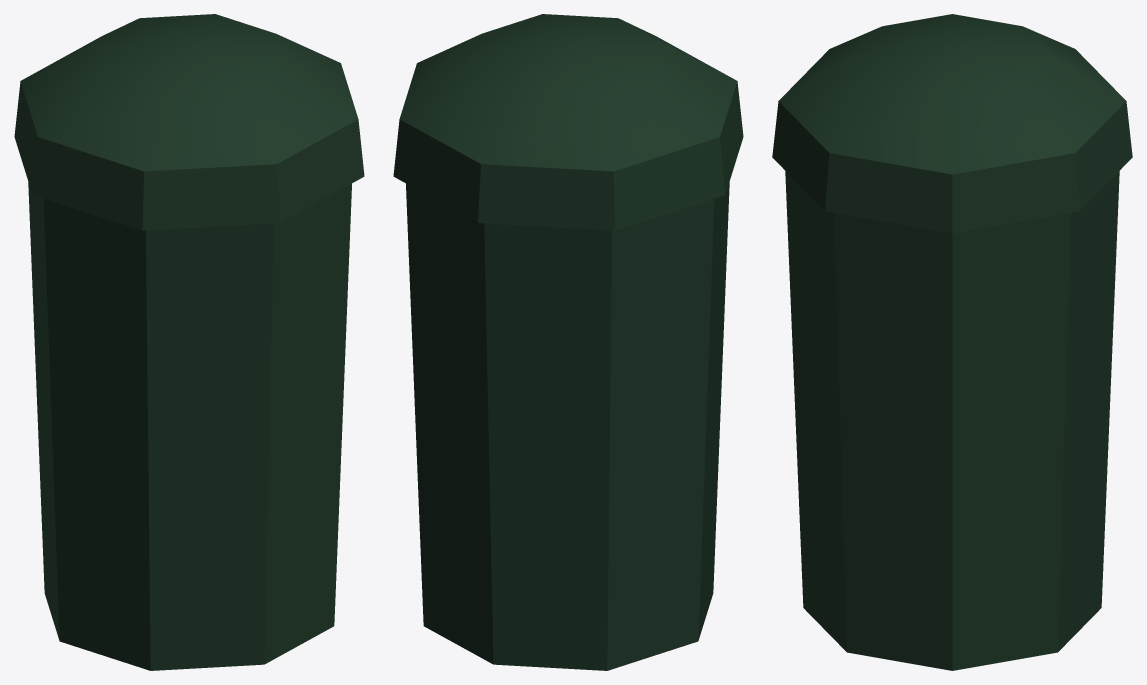
Rendered from SM_Prop_litter_bin_0_LOD1.glb.
3 views of the same model, side by side, from view 1: azimuth 30°, elevation 25°; view 2: azimuth 150°, elevation 25°; view 3: azimuth 270°, elevation 25° (orthographic).
Parts seen in each view (by area): view 1: SM_Prop_litter_bin_0_LOD1; view 2: SM_Prop_litter_bin_0_LOD1; view 3: SM_Prop_litter_bin_0_LOD1.
Part boxes in pixels (x1=…): SM_Prop_litter_bin_0_LOD1: x1=14, y1=14, x2=364, y2=670; SM_Prop_litter_bin_0_LOD1: x1=393, y1=14, x2=743, y2=670; SM_Prop_litter_bin_0_LOD1: x1=772, y1=14, x2=1132, y2=670.
Size of the model in its own units: 0.58 by 1 by 0.58.
